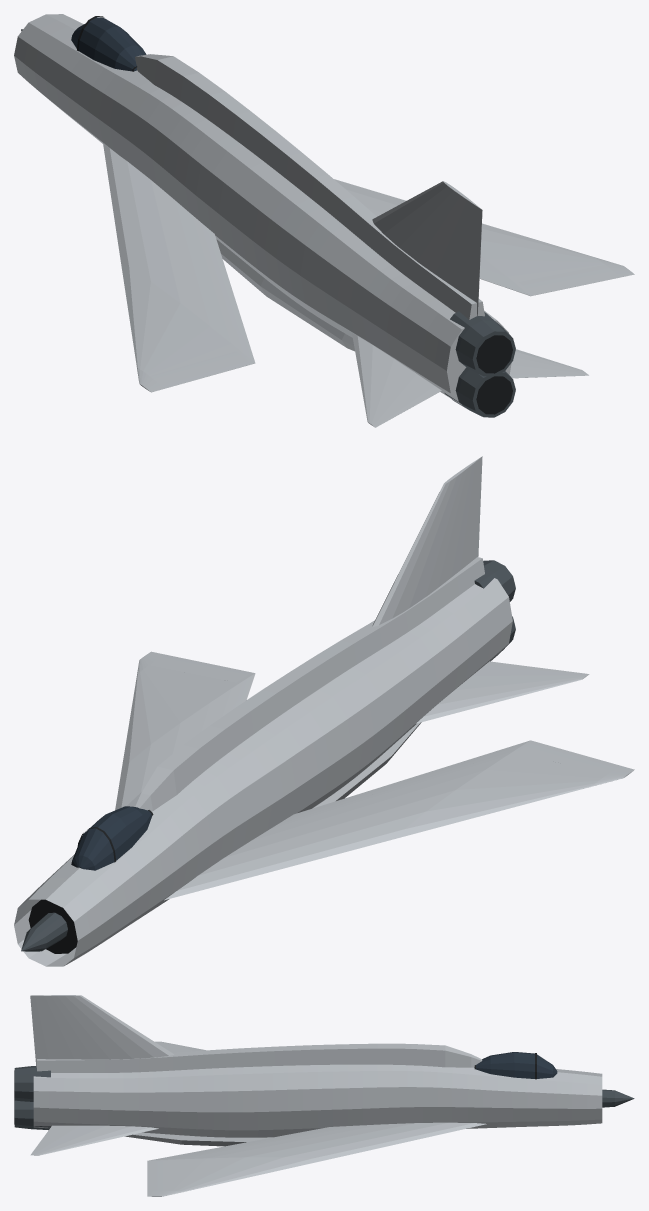
File: lightning.glb
The picture shows the model from 3 angles, top to bottom: view 1: azimuth 30°, elevation 25°; view 2: azimuth 150°, elevation 25°; view 3: azimuth 270°, elevation 25°; orthographic projection. The views are drawn at different scales.
Visible parts, largest first — view 1: Fuselage, Wing L, Dorsal Fairing, Wing R, Vertical Fin, Elevator L, Exhaust Nozzles, Rudder, Cockpit Glass, Exhaust, Ventral Tank, Aileron L (+3 smaller); view 2: Fuselage, Wing L, Dorsal Fairing, Wing R, Vertical Fin, Elevator L, Cockpit Glass, Rudder, Aileron L, Aileron R, Intake Cone, Intake (+3 smaller); view 3: Fuselage, Wing R, Dorsal Fairing, Vertical Fin, Rudder, Elevator R, Cockpit Glass, Exhaust Nozzles, Ventral Tank, Aileron R, Flap R, Intake Cone.
Part boxes in pixels (x1,y1,x2,y2): Fuselage: (14, 14, 511, 405); Wing L: (103, 143, 255, 392); Dorsal Fairing: (135, 54, 484, 319); Wing R: (334, 179, 634, 296); Vertical Fin: (372, 181, 468, 273); Elevator L: (352, 333, 441, 427); Exhaust Nozzles: (444, 311, 515, 417); Rudder: (435, 199, 482, 316); Cockpit Glass: (71, 17, 146, 71); Exhaust: (476, 335, 512, 414); Ventral Tank: (216, 239, 354, 351); Aileron L: (150, 351, 251, 388); Fuselage: (14, 578, 512, 966); Wing L: (164, 740, 634, 900); Dorsal Fairing: (135, 557, 484, 811); Wing R: (115, 651, 255, 810); Vertical Fin: (372, 466, 469, 626); Elevator L: (416, 661, 589, 723); Cockpit Glass: (71, 806, 151, 870); Rudder: (442, 456, 482, 584); Aileron L: (518, 741, 620, 775); Aileron R: (150, 654, 251, 682); Intake Cone: (21, 912, 67, 951); Intake: (28, 899, 77, 953); Fuselage: (33, 1064, 602, 1137); Wing R: (147, 1122, 486, 1196); Dorsal Fairing: (37, 1043, 482, 1072); Vertical Fin: (48, 995, 173, 1059); Rudder: (30, 995, 87, 1067); Elevator R: (30, 1125, 158, 1155); Cockpit Glass: (474, 1052, 557, 1078); Exhaust Nozzles: (14, 1066, 50, 1130); Ventral Tank: (125, 1132, 272, 1146); Aileron R: (147, 1161, 167, 1191); Flap R: (181, 1127, 341, 1154); Intake Cone: (602, 1089, 634, 1107).
Bounding box in the file's own units: 10.62 × 4.76 × 18.02.
